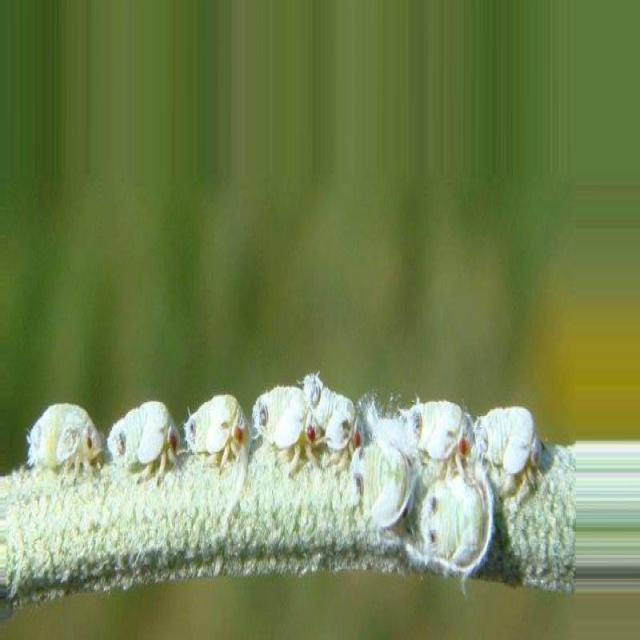Psyllid: (406, 466, 498, 593), (477, 406, 550, 501), (26, 405, 105, 487), (107, 401, 178, 487), (406, 401, 477, 481), (302, 371, 359, 465), (253, 385, 310, 474), (185, 395, 250, 472), (362, 440, 411, 531)
